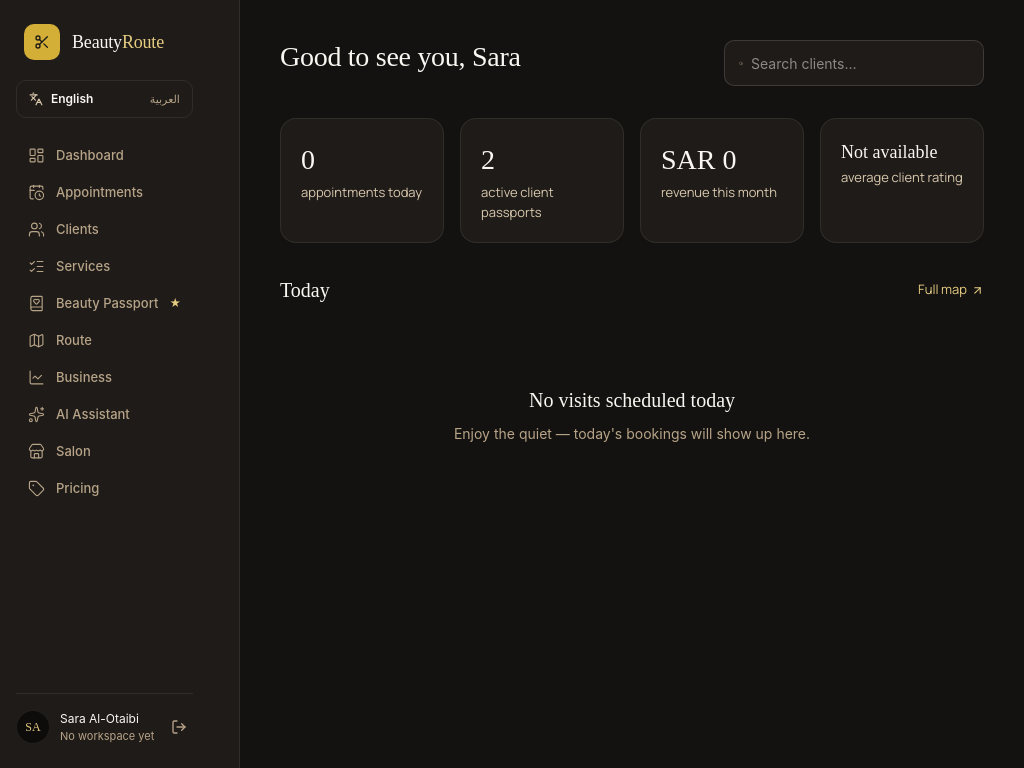
Scenario: StylistDashboard page › searches clients by name and navigates to their Beauty Passport
Type "bayan" into the field with placeholder "Search clients…". click: (860, 63)
box: [751,52,969,74]
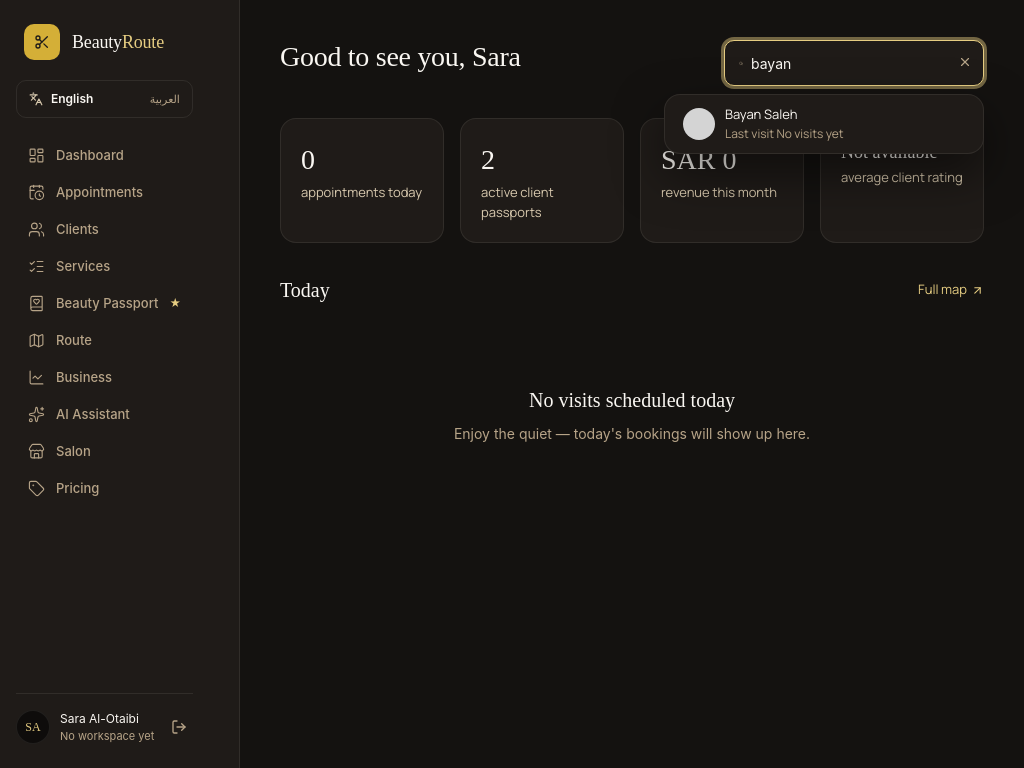
Check: the text "Bayan Saleh" is shown, box [725,105,798,123]
